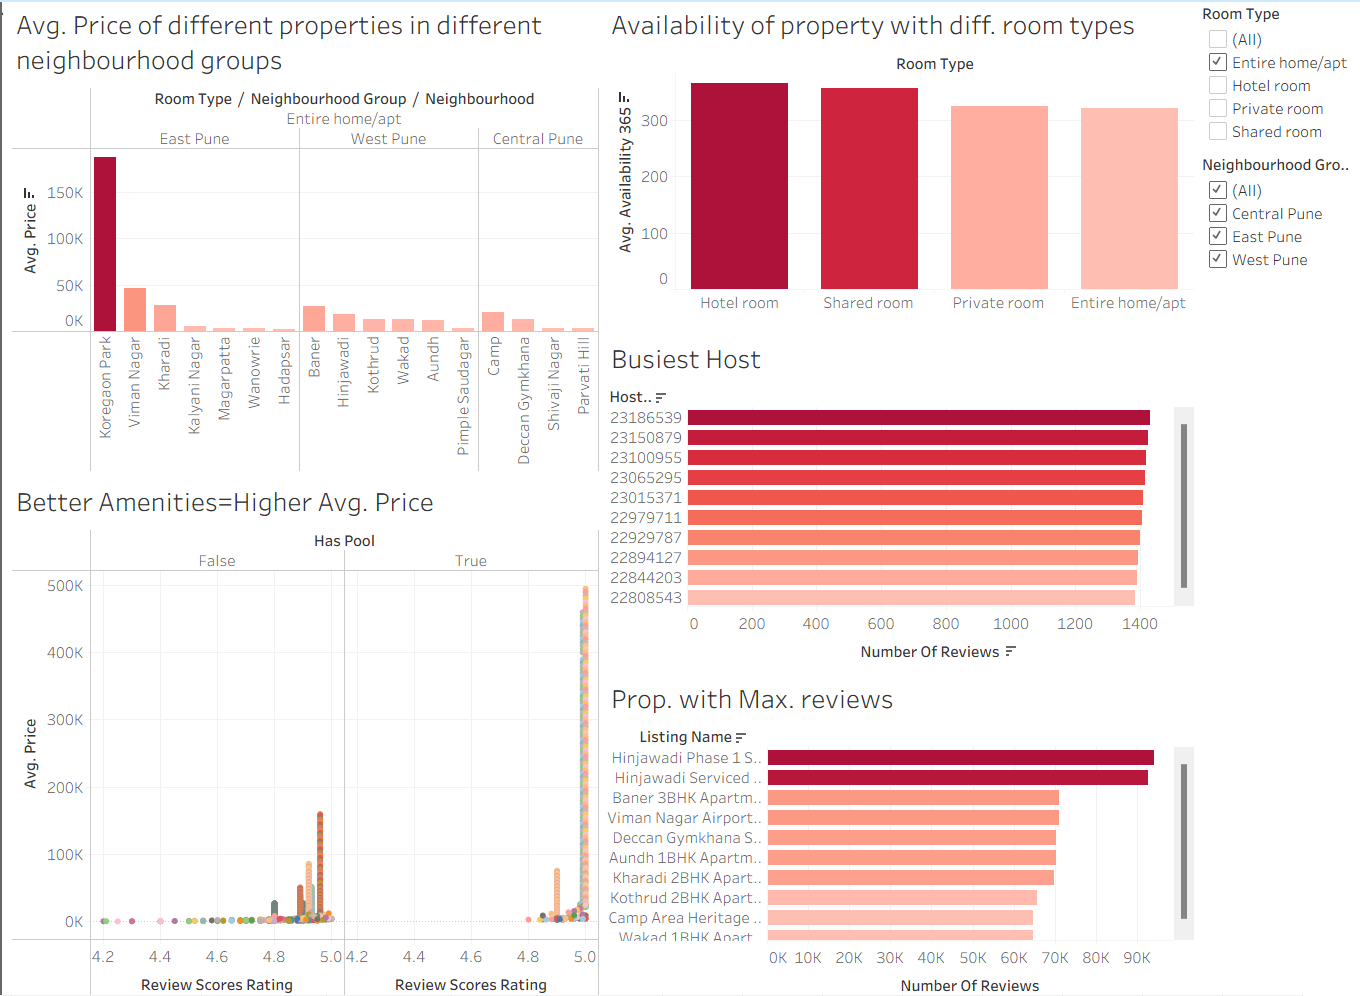

The page's visual inventory and layout, read from the dashboard file:
{"tool":"tableau","page":{"name":"Dashboard 2","canvas":[650,860],"ordinal":1},"visuals":[{"type":"legend","title":"Preferred Room Type per Neighbourhood","param":"[federated.1m19ni1038zj8x18p1bd40os0qli].[none:room_type:nk]","box":[472,1.1,156,474]},{"type":"worksheet","title":"Reasons for High Prices","mark":"Square","rows":["neighbourhood"],"cols":["room_type"],"box":[2,2.1,216,286.3]},{"type":"worksheet","title":"Preferred Room Type per Neighbourhood","mark":"Automatic","rows":["number_of_reviews"],"cols":["neighbourhood"],"box":[224,8.6,216,345.3]},{"type":"legend","title":"Reasons for High Prices","param":"[federated.1m19ni1038zj8x18p1bd40os0qli].[avg:price:qk]","box":[20,292.7,140,94.4]},{"type":"worksheet","title":"Busiest Hosts (by Number of Reviews)","mark":"Automatic","box":[234,368.9,216,286.3]},{"type":"worksheet","title":"Room Availability","mark":"Automatic","rows":["availability_365"],"cols":["room_type"],"box":[13,369.9,216,286.3]},{"type":"filter","title":"Busiest Hosts (by Number of Reviews)","param":"[federated.1m19ni1038zj8x18p1bd40os0qli].[none:host_id:ok]","box":[470,493.3,160,129.7]},{"type":"legend","title":"Busiest Hosts (by Number of Reviews)","param":"[federated.1m19ni1038zj8x18p1bd40os0qli].[sum:number_of_reviews:qk]","box":[253,647.7,140,66.5]},{"type":"legend","title":"Room Availability","param":"[federated.1m19ni1038zj8x18p1bd40os0qli].[avg:availability_365:qk]","box":[29,659.5,140,94.4]},{"type":"legend","title":"Most Reviewed Property","param":"[federated.1m19ni1038zj8x18p1bd40os0qli].[sum:review_scores_rating:qk]","box":[228,733.5,140,94.4]},{"type":"filter","title":"Busiest Hosts (by Number of Reviews)","param":"[federated.1m19ni1038zj8x18p1bd40os0qli].[sum:number_of_reviews:qk]","box":[23,741,160,69.7]}]}

Visuals, with their boxes on the page's 650x860 design canvas (x1, y1, x2, y2). These are canvas units, not pixel positions in the 1360x996 screenshot, which may show the page scaled, cropped or inside an application window:
"Preferred Room Type per Neighbourhood" legend: left=472, top=1, right=628, bottom=475
"Reasons for High Prices" worksheet (Square marks): left=2, top=2, right=218, bottom=288
"Preferred Room Type per Neighbourhood" worksheet: left=224, top=9, right=440, bottom=354
"Reasons for High Prices" legend: left=20, top=293, right=160, bottom=387
"Busiest Hosts (by Number of Reviews)" worksheet: left=234, top=369, right=450, bottom=655
"Room Availability" worksheet: left=13, top=370, right=229, bottom=656
"Busiest Hosts (by Number of Reviews)" filter: left=470, top=493, right=630, bottom=623
"Busiest Hosts (by Number of Reviews)" legend: left=253, top=648, right=393, bottom=714
"Room Availability" legend: left=29, top=660, right=169, bottom=754
"Most Reviewed Property" legend: left=228, top=734, right=368, bottom=828
"Busiest Hosts (by Number of Reviews)" filter: left=23, top=741, right=183, bottom=811
